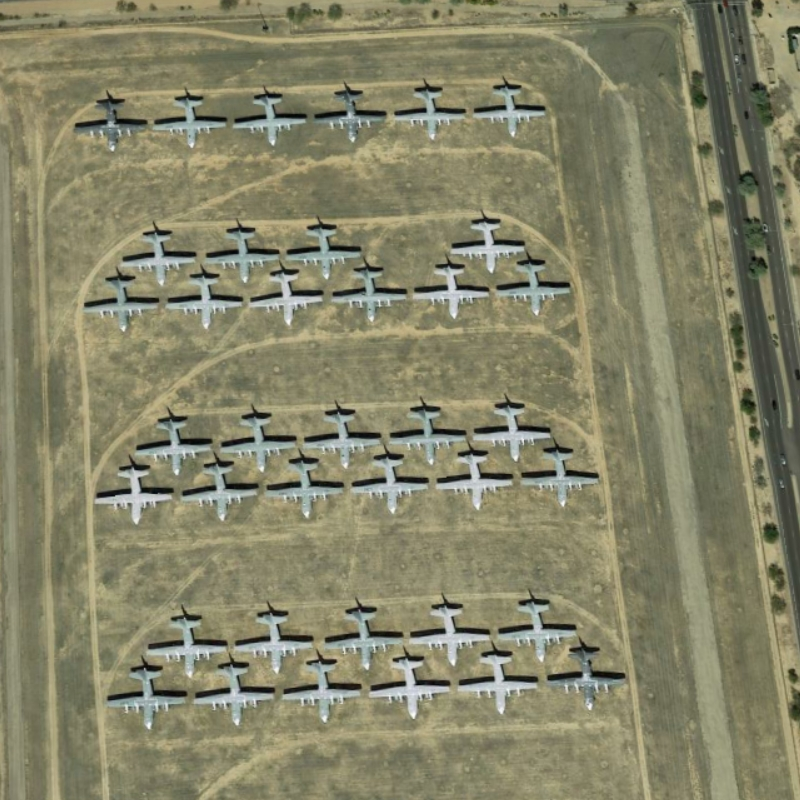A2: (546, 643, 635, 722), (497, 588, 586, 665), (351, 447, 442, 522), (233, 600, 316, 680), (131, 406, 220, 480), (459, 646, 543, 724), (371, 650, 457, 726), (407, 599, 497, 669), (101, 661, 190, 731), (194, 659, 278, 733), (143, 610, 234, 677), (433, 451, 523, 518), (288, 652, 367, 728), (324, 598, 404, 673), (304, 401, 385, 474), (447, 212, 537, 277), (387, 400, 476, 465), (497, 255, 582, 323), (76, 83, 154, 157), (181, 456, 265, 523), (524, 446, 604, 516), (229, 88, 315, 153), (474, 401, 564, 462), (387, 81, 474, 144), (333, 264, 411, 334), (165, 268, 244, 337), (412, 257, 491, 326), (313, 80, 393, 148), (118, 225, 202, 289), (223, 408, 305, 473), (75, 271, 165, 330), (250, 267, 328, 335), (473, 78, 554, 143), (285, 221, 367, 283), (267, 455, 343, 521), (95, 466, 175, 528), (206, 218, 281, 284), (154, 92, 232, 151)
